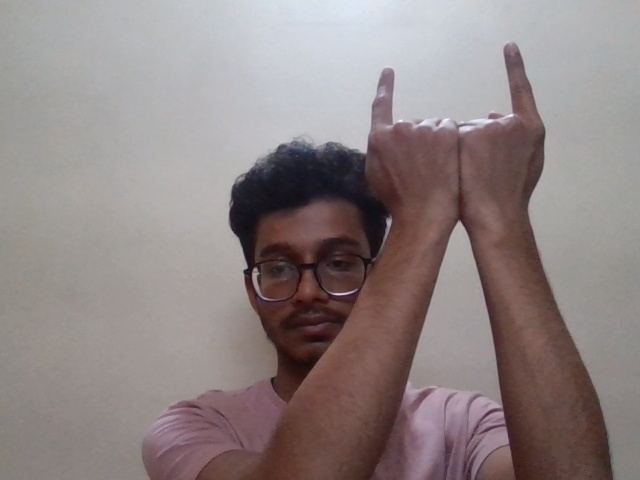when: (354, 37, 555, 217)
